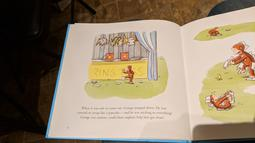text block: (71, 101, 178, 122)
